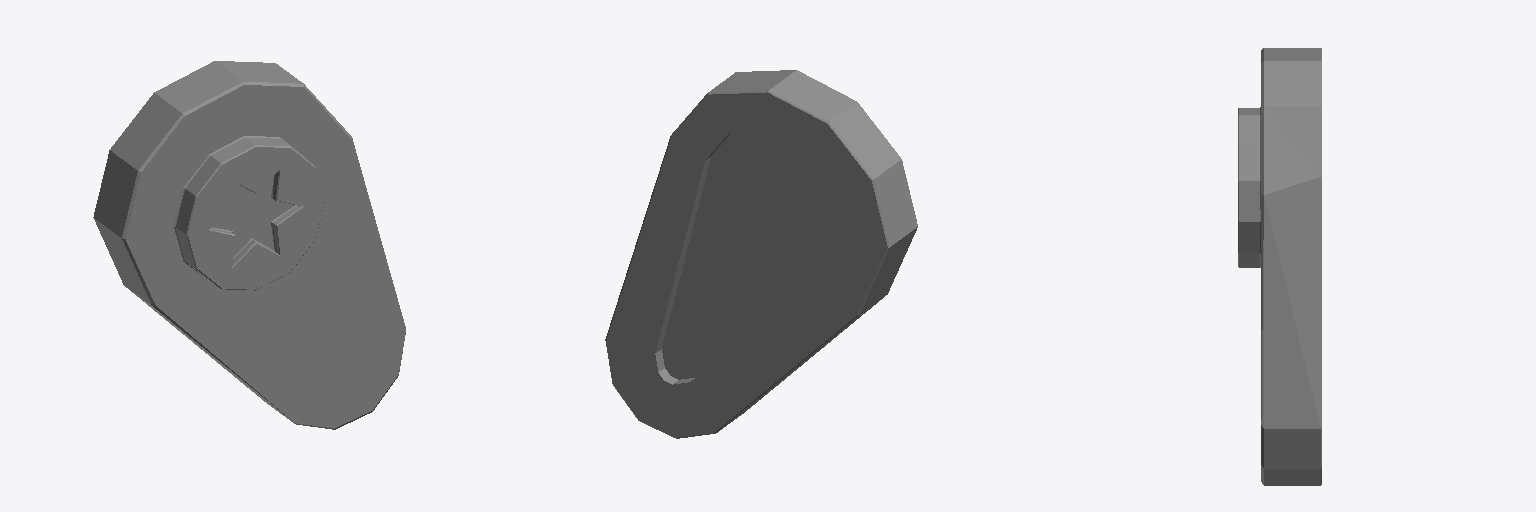
File: tuerca_front_right.obj
3 renders of one model, left to right at view 1: azimuth 30°, elevation 25°; view 2: azimuth 150°, elevation 25°; view 3: azimuth 270°, elevation 25°, orthographic.
Visible parts, largest first — view 1: tuerca_right_front; view 2: tuerca_right_front; view 3: tuerca_right_front.
Part boxes in pixels (x1,y1,x2,y2): tuerca_right_front: (93,61,405,429); tuerca_right_front: (605,70,917,438); tuerca_right_front: (1238,48,1321,485).
Size of the model in its own units: 3.97 by 4.94 by 1.02.